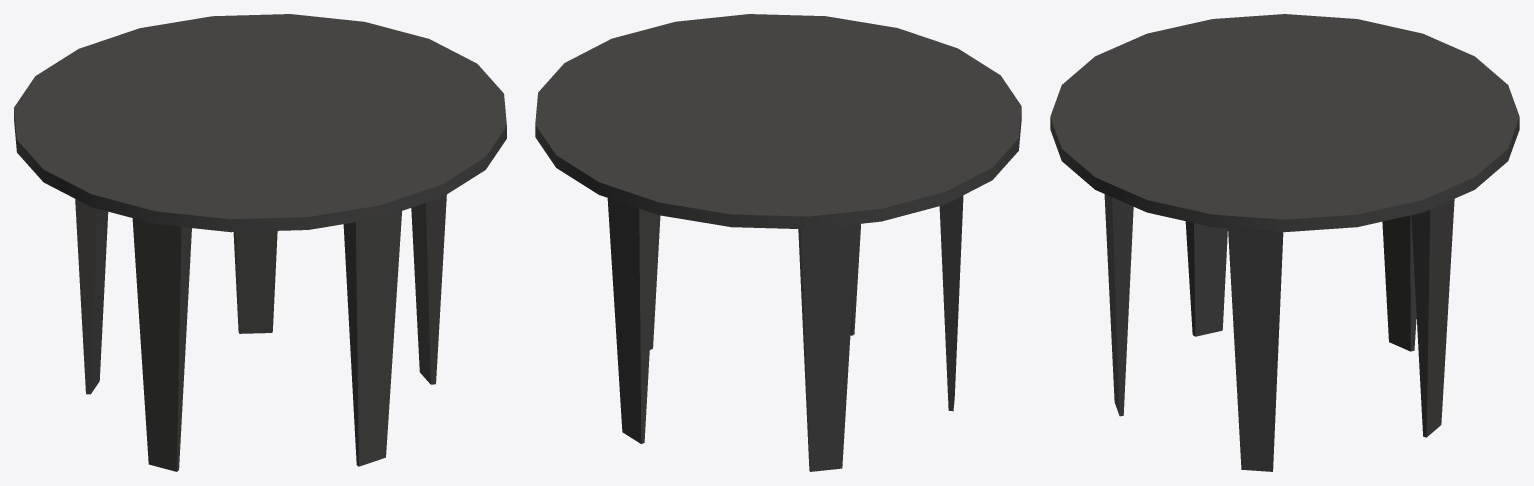
Rendered from table2.fbx.
3 views of the same model, side by side, from view 1: azimuth 30°, elevation 25°; view 2: azimuth 150°, elevation 25°; view 3: azimuth 270°, elevation 25° (orthographic). The views are drawn at different scales.
Visible parts, largest first — view 1: table_1; view 2: table_1; view 3: table_1.
Part boxes in pixels (x1,y1,x2,y2): table_1: (14,14,506,471); table_1: (535,14,1021,471); table_1: (1050,14,1519,471).
Size of the model in its own units: 173 by 110 by 167.
